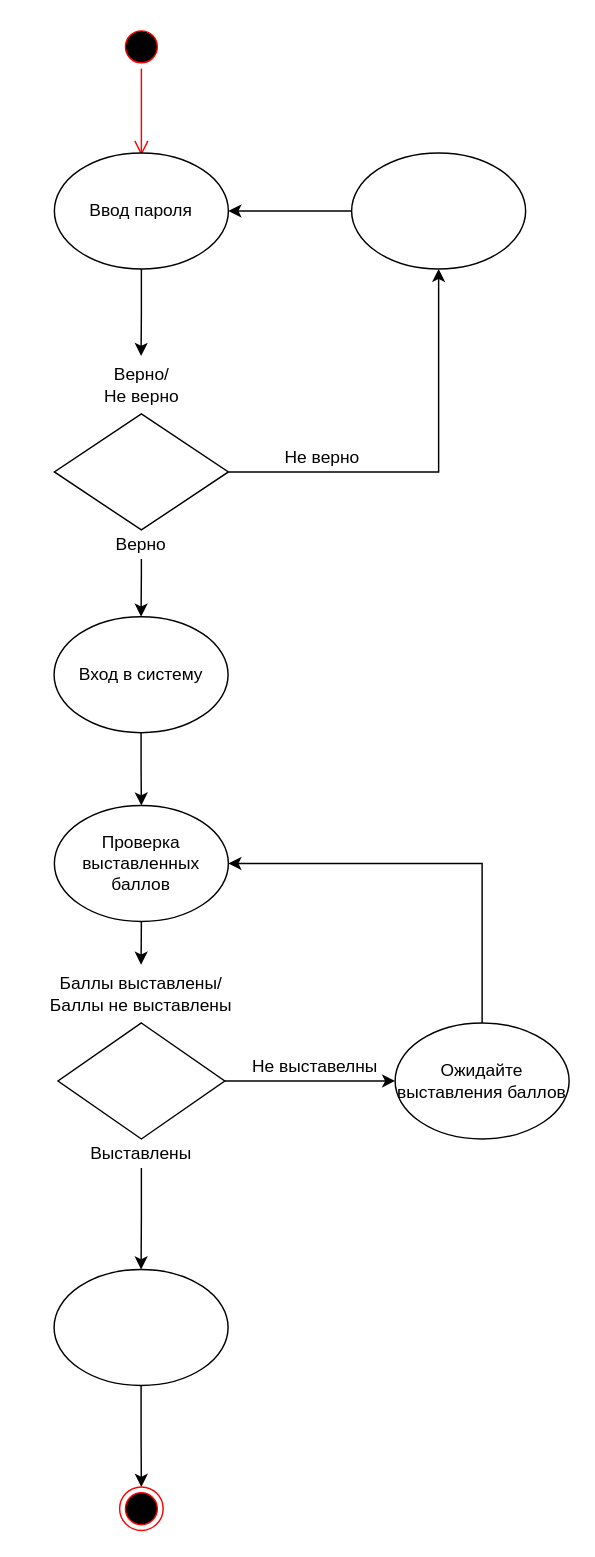
Image size: 595x1557. Some labels were removed from this diagram. The shapes that lost their labels are listed below. From the top down, each one's centre as x and y in pixels, then its label:
At pixel 438 210: "Неверный ввод".
At pixel 140 1326: "Просмотр баллов".
